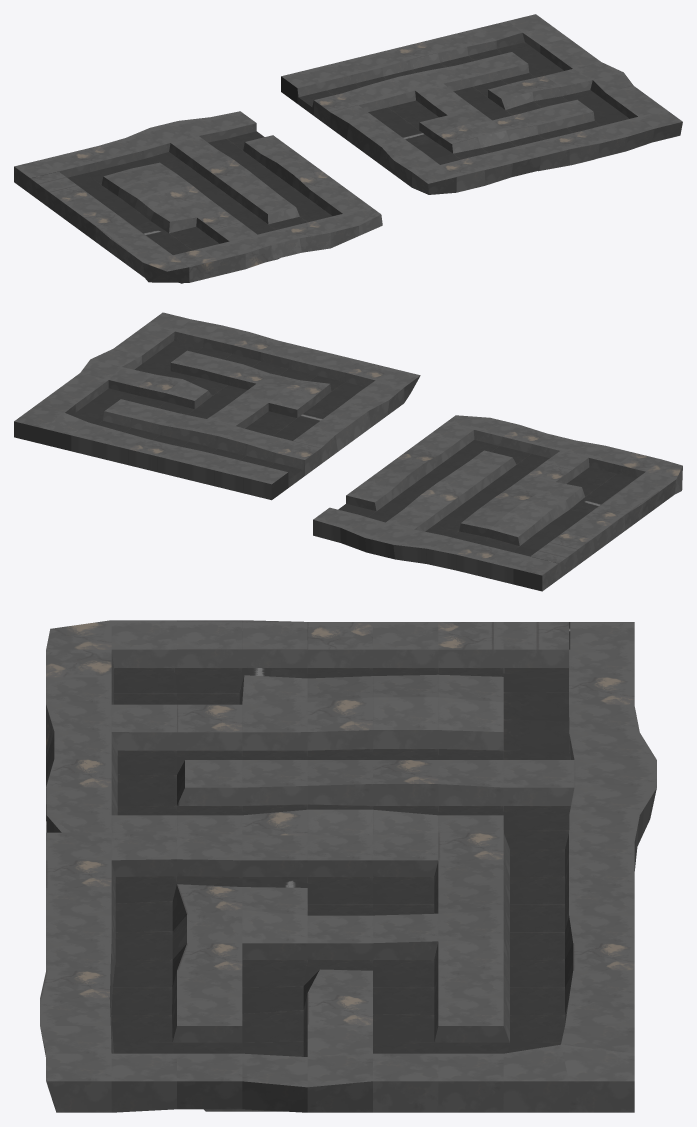
File: Fase2Tabuleiro.fbx
The picture shows the model from 3 angles, top to bottom: view 1: azimuth 30°, elevation 25°; view 2: azimuth 150°, elevation 25°; view 3: azimuth 270°, elevation 25°; orthographic projection. The views are drawn at different scales.
Parts seen in each view (by area): view 1: Plano; view 2: Plano; view 3: Plano.
Boxes of the visible parts, x1,y1,x2,y2 form: Plano: [14, 14, 682, 283]; Plano: [14, 312, 682, 591]; Plano: [40, 620, 656, 1112].
Bounding box in the file's own units: 1872 × 247 × 944.
